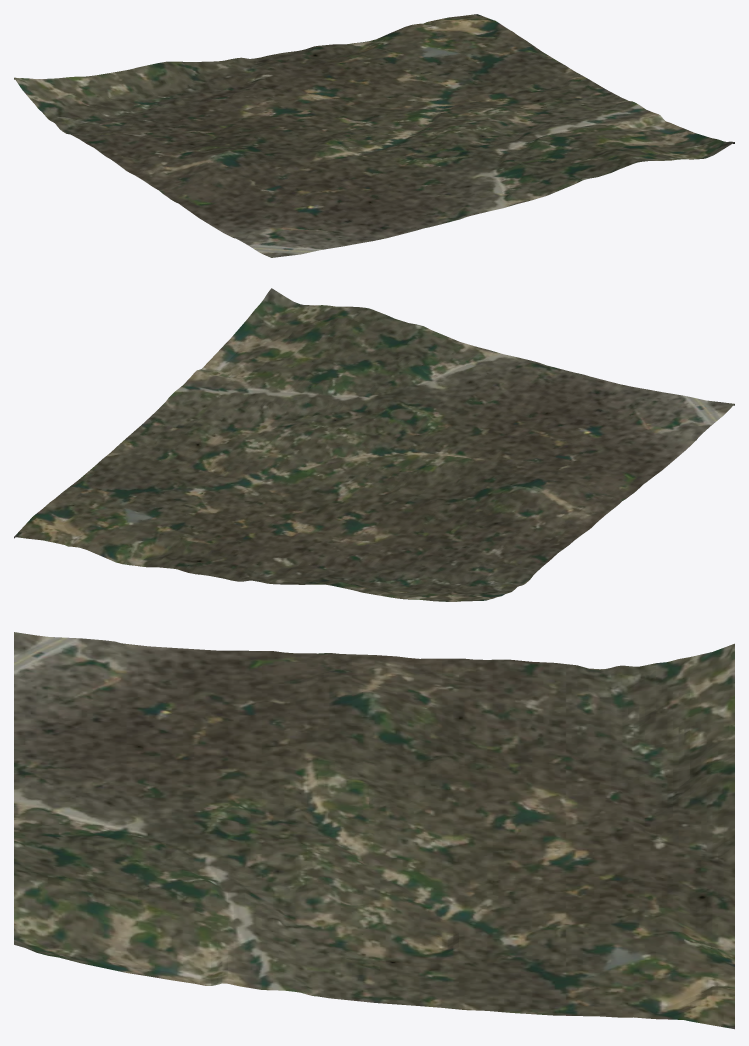
3 views of the same model, one above another, from view 1: azimuth 30°, elevation 25°; view 2: azimuth 150°, elevation 25°; view 3: azimuth 270°, elevation 25° (orthographic). The views are drawn at different scales.
Bounding box in the file's own units: 250 × 34.27 × 241.
Materials: 1 (1 with a texture image).
